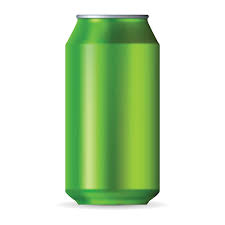can: (62, 11, 163, 209)
